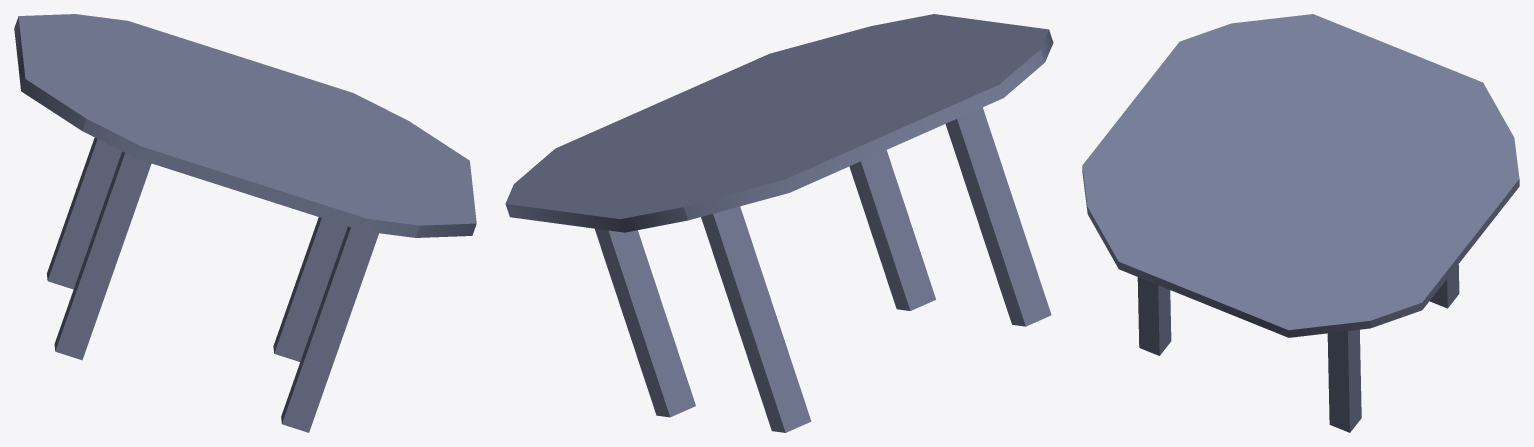
File: SideTable.fbx
3 views of the same model, side by side, from view 1: azimuth 30°, elevation 25°; view 2: azimuth 150°, elevation 25°; view 3: azimuth 270°, elevation 25° (orthographic). The views are drawn at different scales.
Visible parts, largest first — view 1: SideTable1; view 2: SideTable1; view 3: SideTable1.
Boxes of the visible parts, <box> form: SideTable1: <box>14,14,476,432</box>; SideTable1: <box>505,14,1053,432</box>; SideTable1: <box>1082,14,1519,432</box>.
Bounding box in the file's own units: 11.52 × 9.15 × 12.1.
